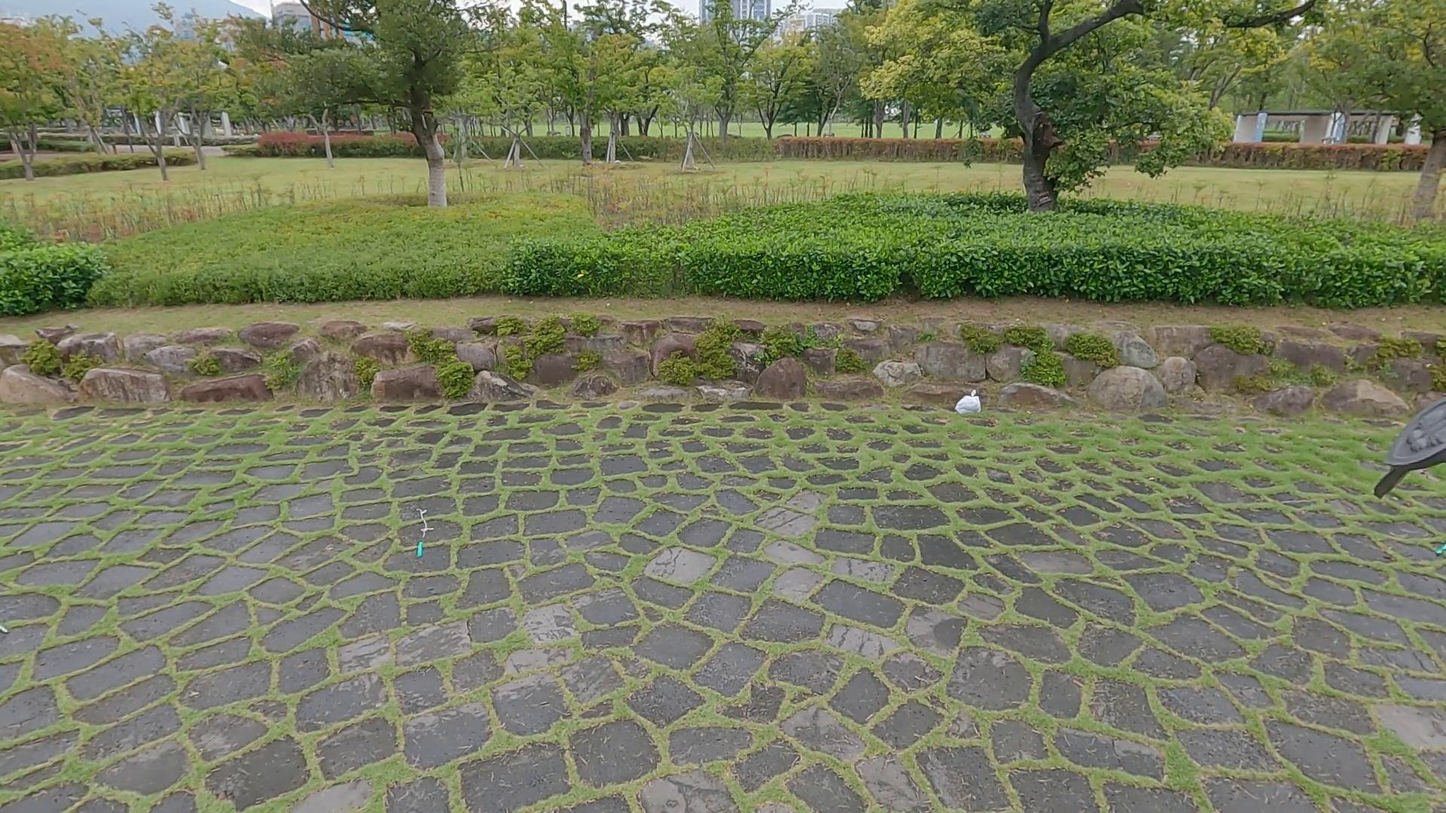trash: (952, 386, 990, 421)
